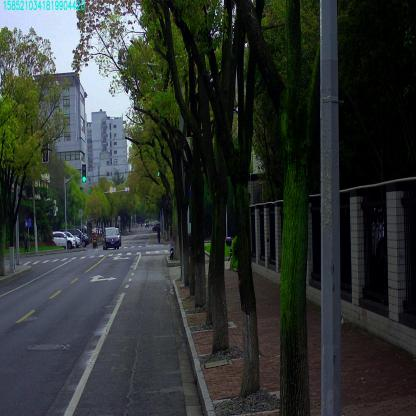traffic-light: (82, 164, 86, 182), (157, 160, 160, 177)
